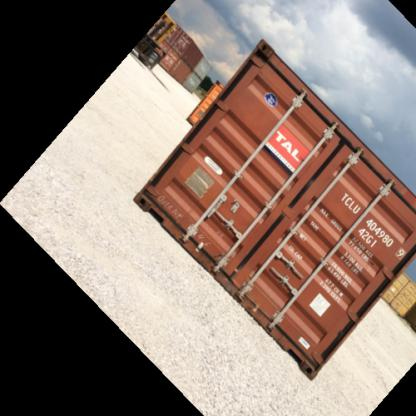Damage: (218, 256, 261, 300)
